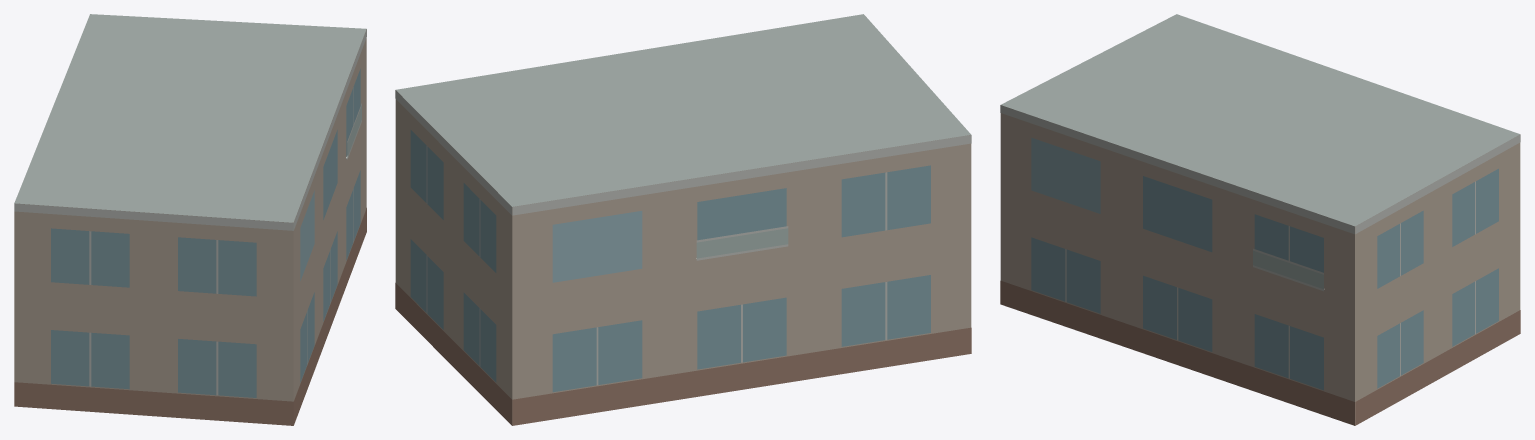
The model's file is survey-upis-32703279.glb.
The picture shows the model from 3 angles, left to right: view 1: azimuth 30°, elevation 25°; view 2: azimuth 150°, elevation 25°; view 3: azimuth 270°, elevation 25°; orthographic projection. The views are drawn at different scales.
Parts seen in each view (by area): view 1: survey-upis-32703279.tmp; view 2: survey-upis-32703279.tmp; view 3: survey-upis-32703279.tmp.
Part boxes in pixels (box(x1,y1,x2,y2)): survey-upis-32703279.tmp: box(14, 14, 366, 425); survey-upis-32703279.tmp: box(395, 14, 971, 425); survey-upis-32703279.tmp: box(1000, 14, 1520, 425).
Bounding box in the file's own units: 13.94 × 6.1 × 14.43.
